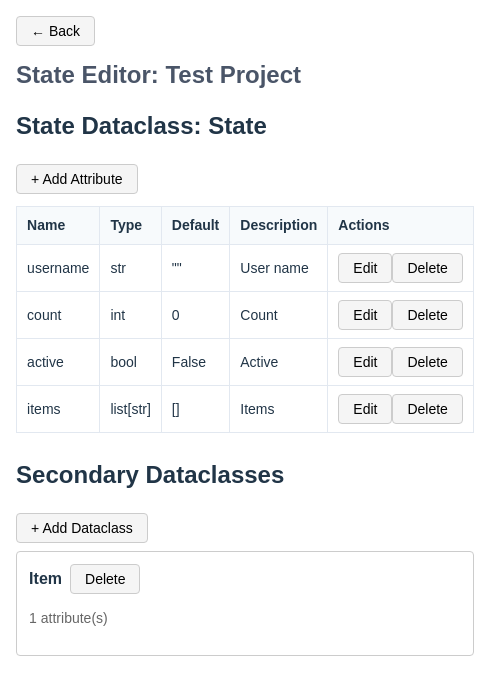
Test: StateEditor delete attribute removes from list
Expected: the text "username" is shown, [17, 245, 100, 292]
# Click Delete for 'username' attribute (first row)
Click the button "Delete" in the row of "username".
click(428, 268)  # box [392, 253, 463, 283]
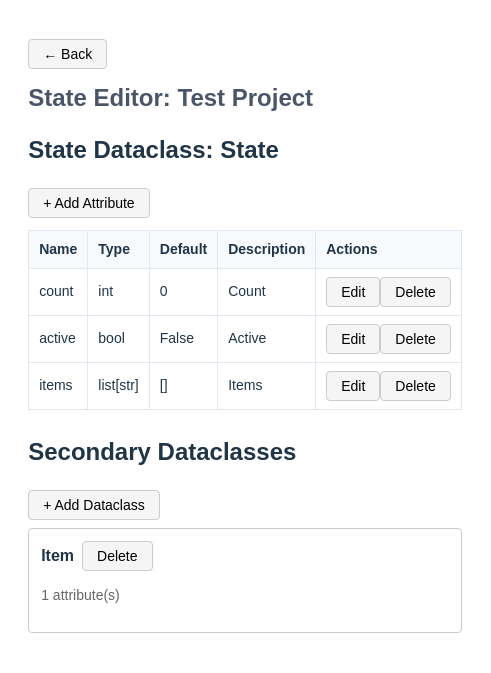
Result: the text "username" is gone
